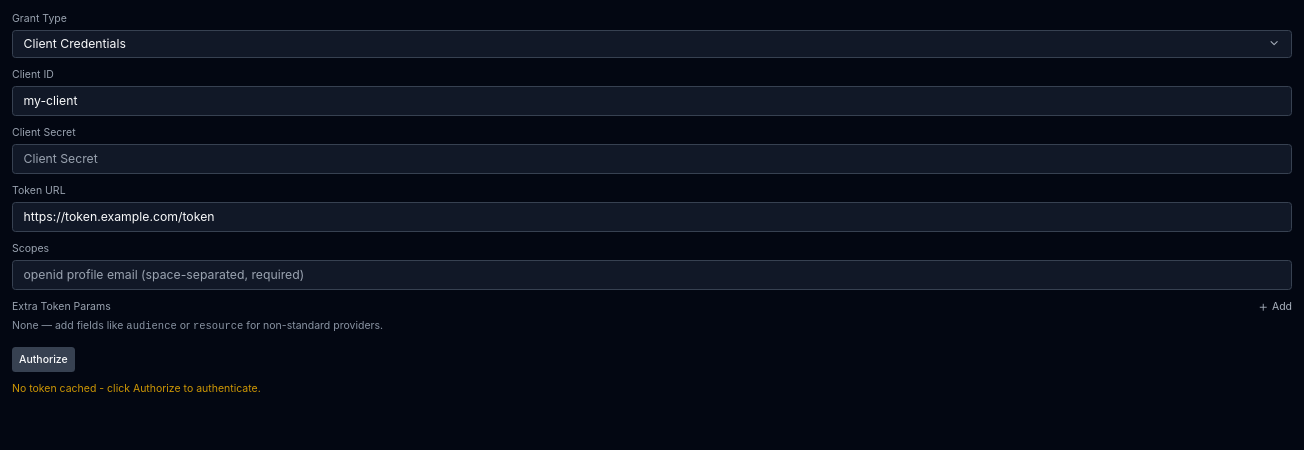
Scenario: OAuthPanel › pre-flight validation › shows error when scopes are empty on authorize
Step 1. Click the button "Authorize" → {"x": 43, "y": 360}, box [12,347,75,372]
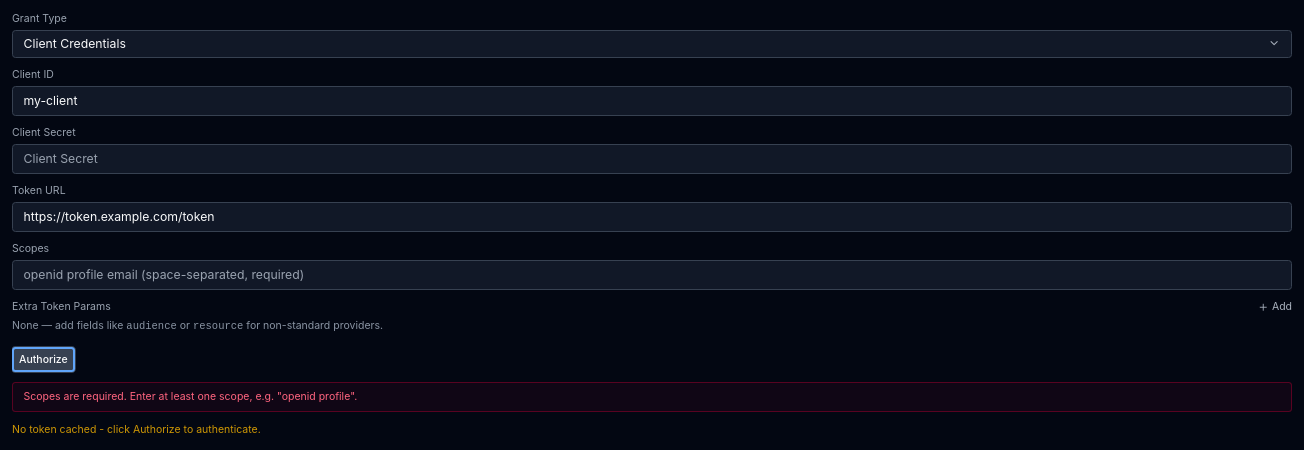
Result: the text "Scopes are required" is shown at [24,390,357,403]
